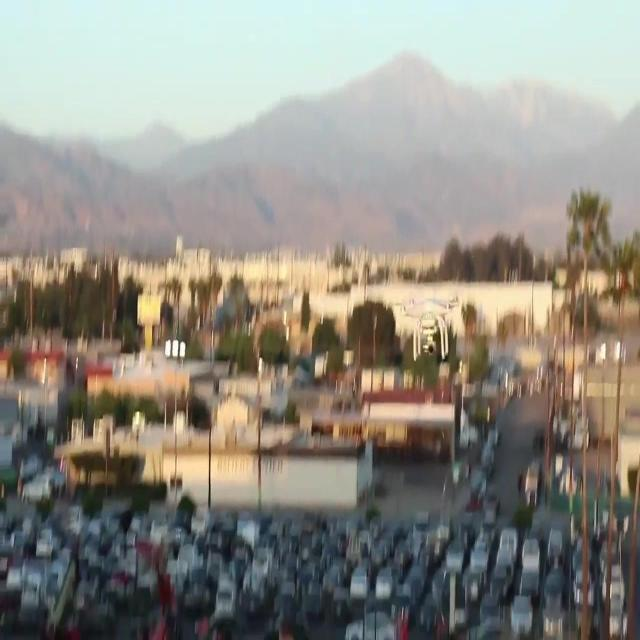UAV: (392, 294, 460, 362)
